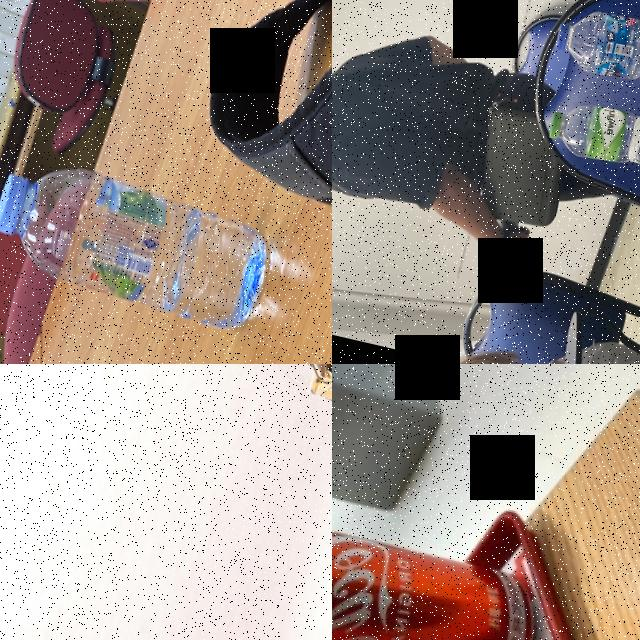bottle: (0, 150, 278, 335), (549, 0, 640, 101), (543, 90, 640, 181)
can: (332, 512, 563, 640)
